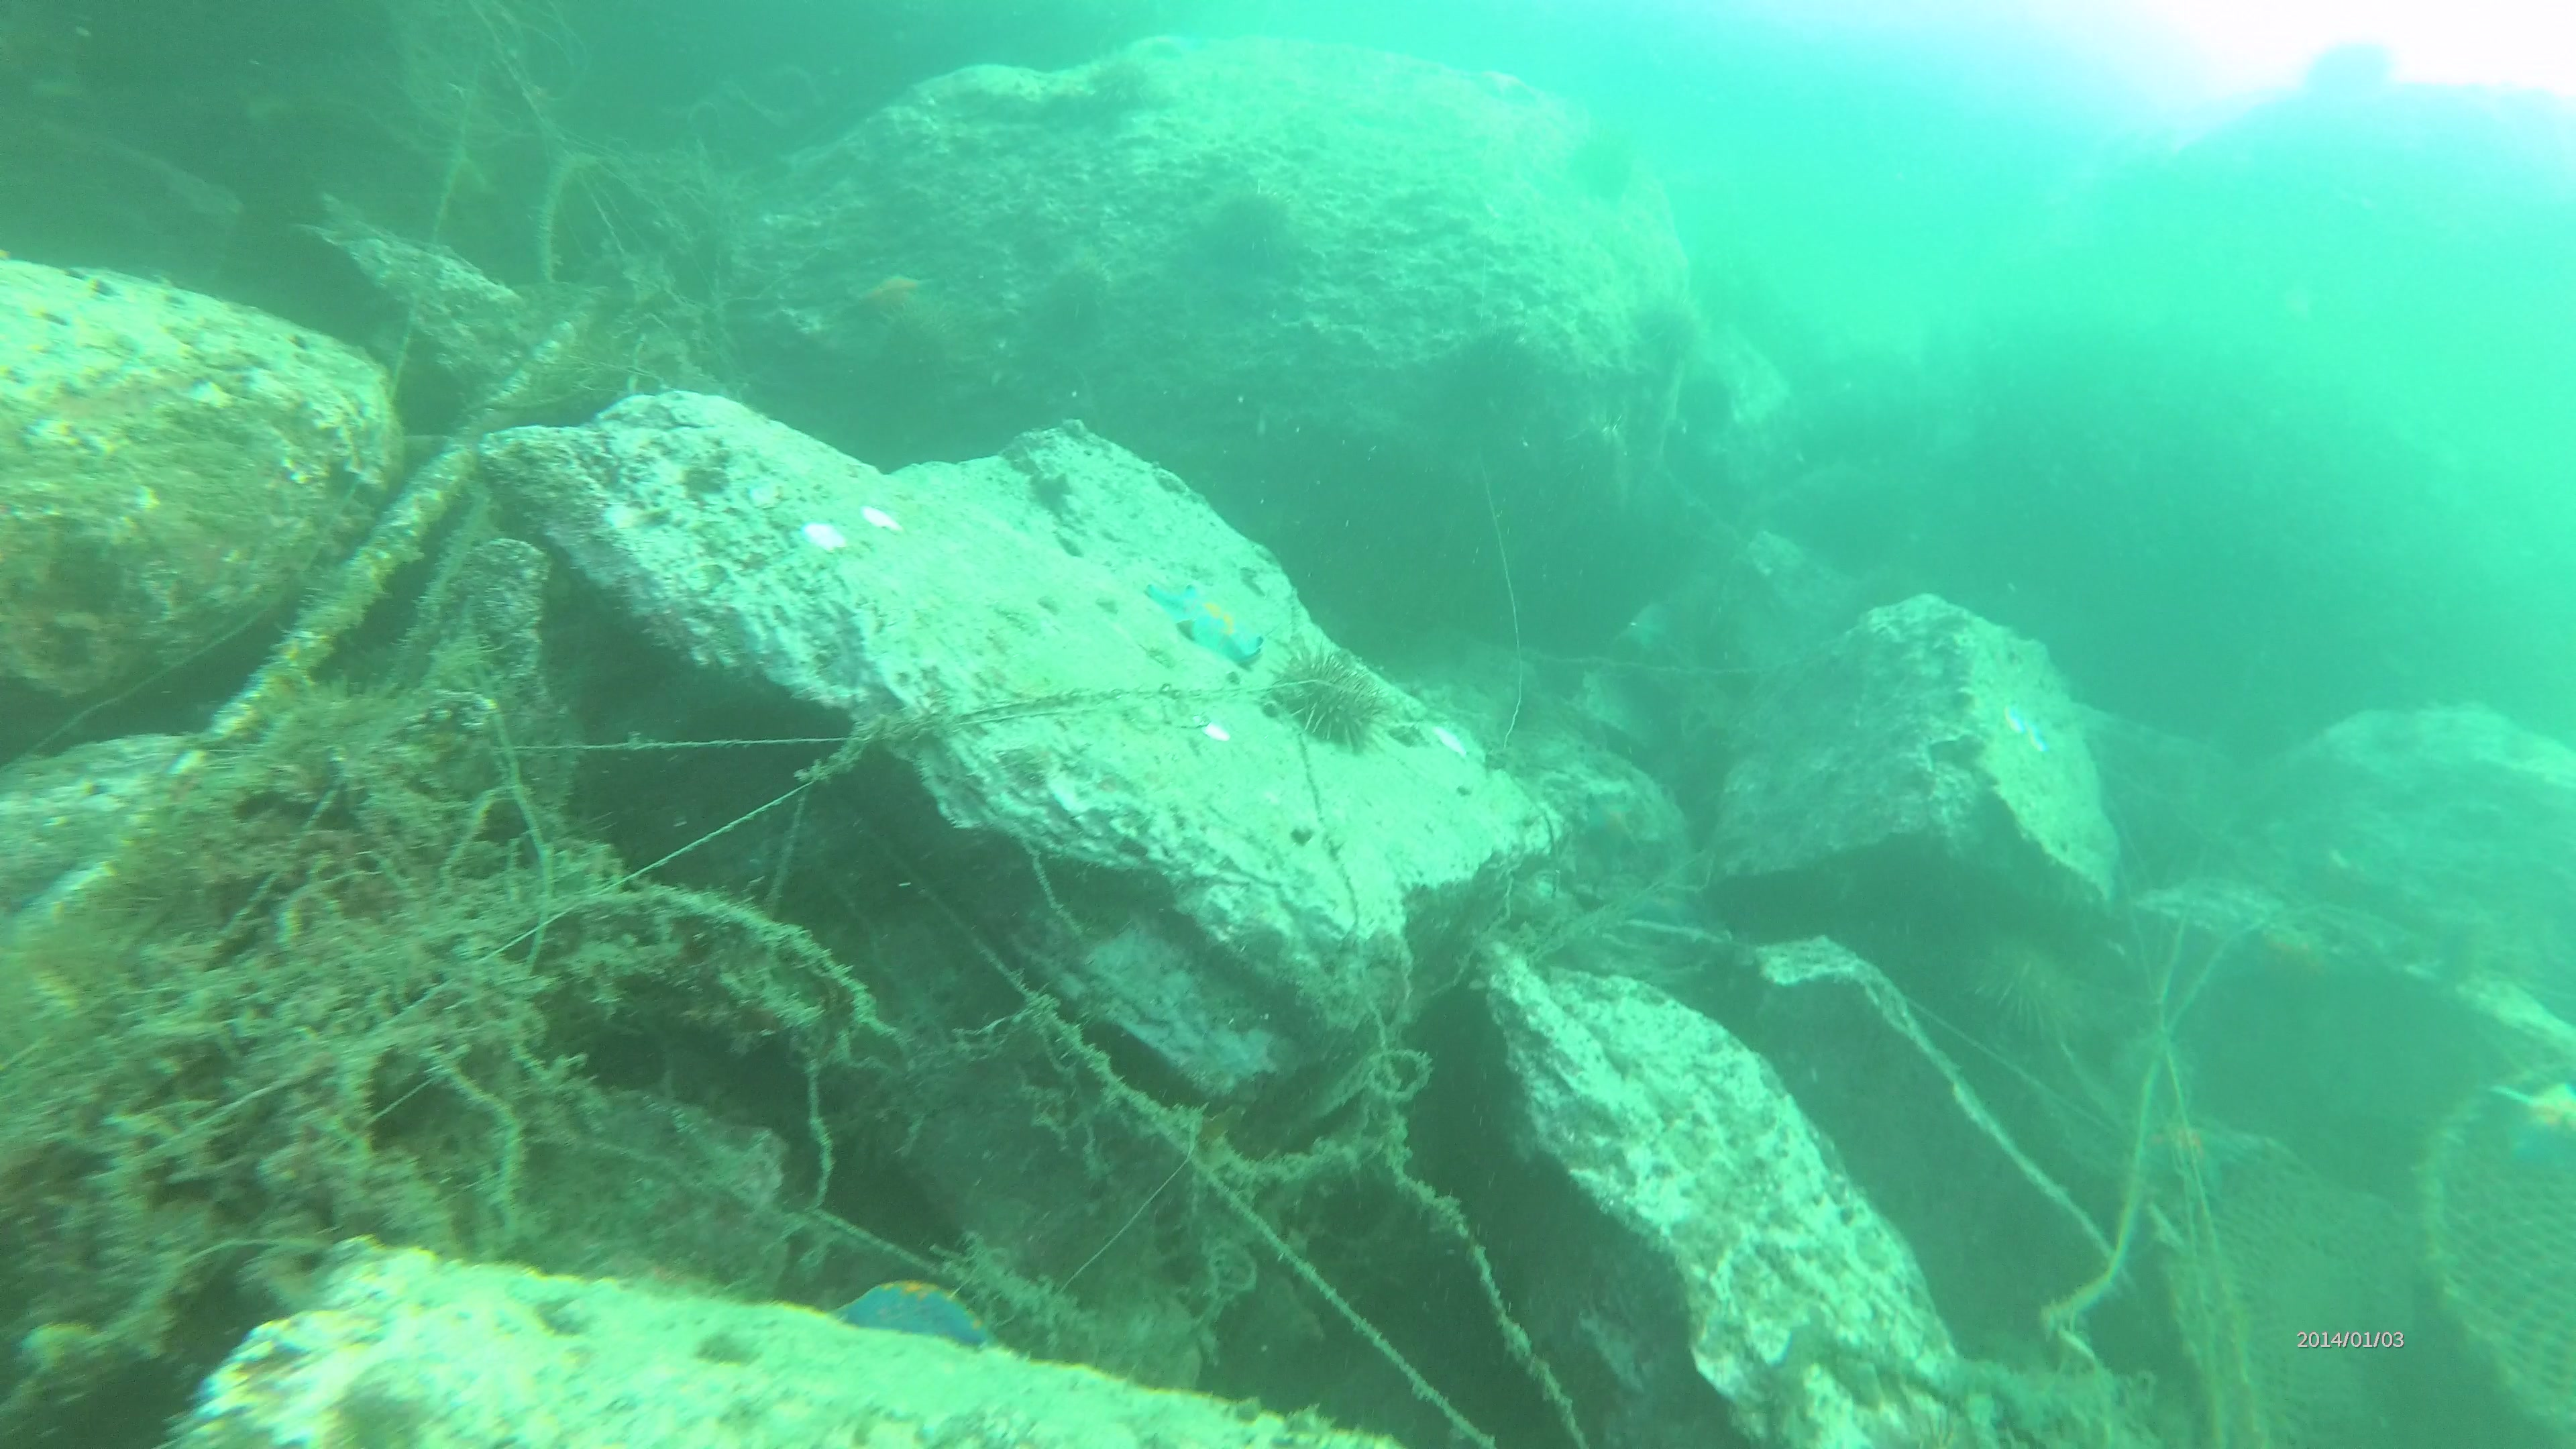echinus: (1962, 916, 2089, 1051), (1270, 648, 1396, 754), (1456, 324, 1552, 410), (1205, 180, 1297, 260), (1042, 255, 1120, 336), (881, 303, 952, 379), (1628, 292, 1700, 361), (1677, 370, 1737, 432)
starfish: (839, 1270, 989, 1352), (2144, 1102, 2254, 1207), (1152, 580, 1274, 671), (2493, 1077, 2576, 1185), (844, 271, 941, 333)
